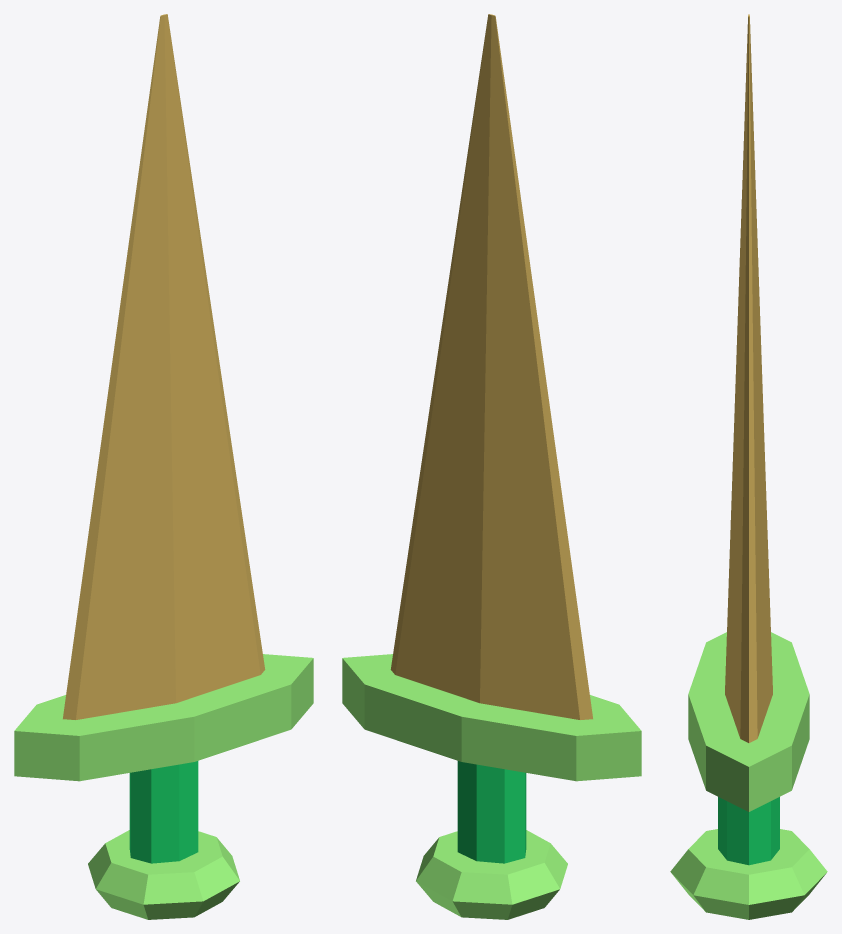
The model's file is sword.glb.
The picture shows the model from 3 angles, left to right: view 1: azimuth 30°, elevation 25°; view 2: azimuth 150°, elevation 25°; view 3: azimuth 270°, elevation 25°; orthographic projection.
Parts seen in each view (by area): view 1: Mango; view 2: Mango; view 3: Mango.
Boxes of the visible parts, bbox=[...] form: Mango: bbox=[14, 14, 313, 919]; Mango: bbox=[342, 14, 641, 919]; Mango: bbox=[670, 14, 827, 919].
Size of the model in its own units: 0.6917 by 1.94 by 0.3156.
Materials: 1 (1 with a texture image).
